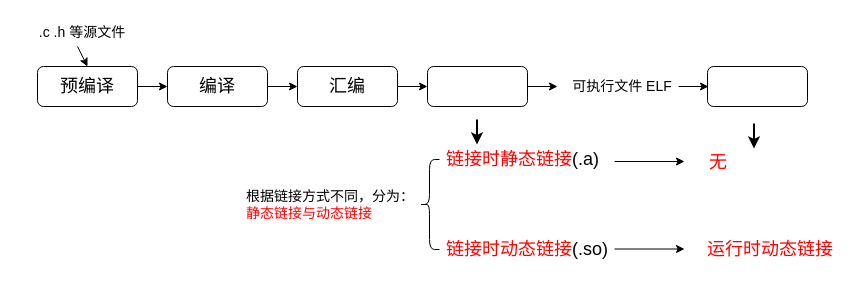
This 852x281 diagram has some shape labels left out. The shapes that lost their labels are listed below. From the top down, each one's box as (x1, y1, x2, y2) in pixels, then its label:
(426, 66, 528, 106): 链接
(706, 66, 808, 106): 运行
